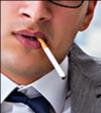Cigarette: (36, 36, 66, 80)
